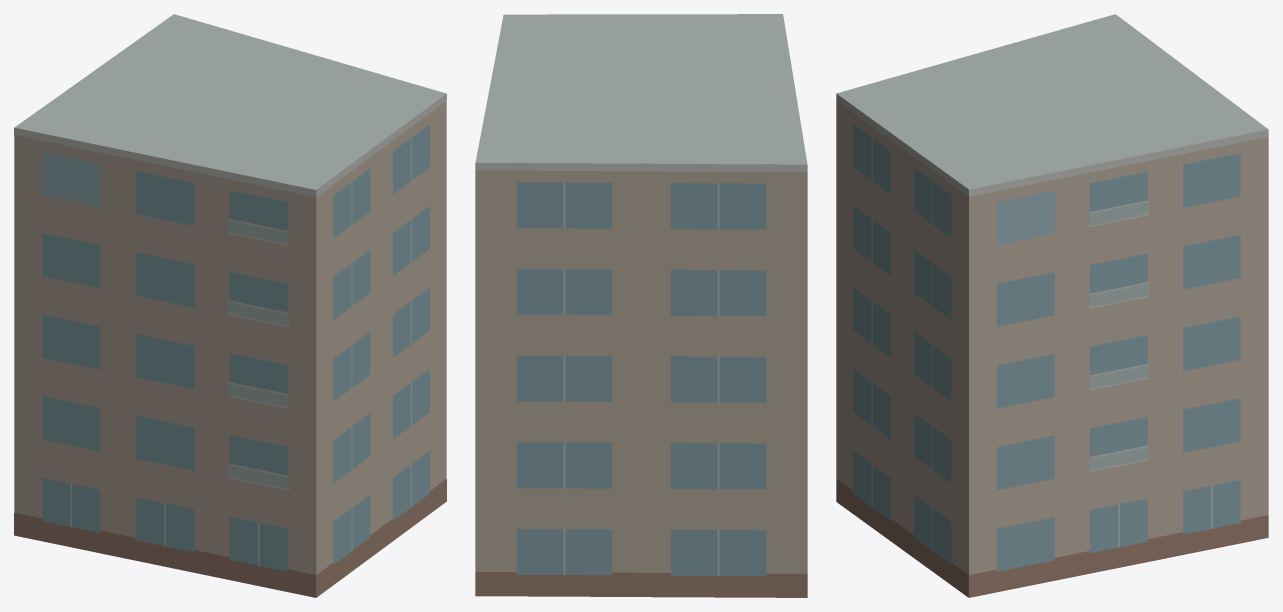
The model's file is survey-upis-33035694.glb.
The picture shows the model from 3 angles, left to right: view 1: azimuth 30°, elevation 25°; view 2: azimuth 150°, elevation 25°; view 3: azimuth 270°, elevation 25°; orthographic projection. The views are drawn at different scales.
Visible parts, largest first — view 1: survey-upis-33035694.tmp; view 2: survey-upis-33035694.tmp; view 3: survey-upis-33035694.tmp.
Part boxes in pixels (left/top/right/bottom): survey-upis-33035694.tmp: left=14, top=14, right=446, bottom=597; survey-upis-33035694.tmp: left=475, top=14, right=807, bottom=597; survey-upis-33035694.tmp: left=836, top=14, right=1268, bottom=597.
Size of the model in its own units: 12.74 by 13.8 by 13.25.
